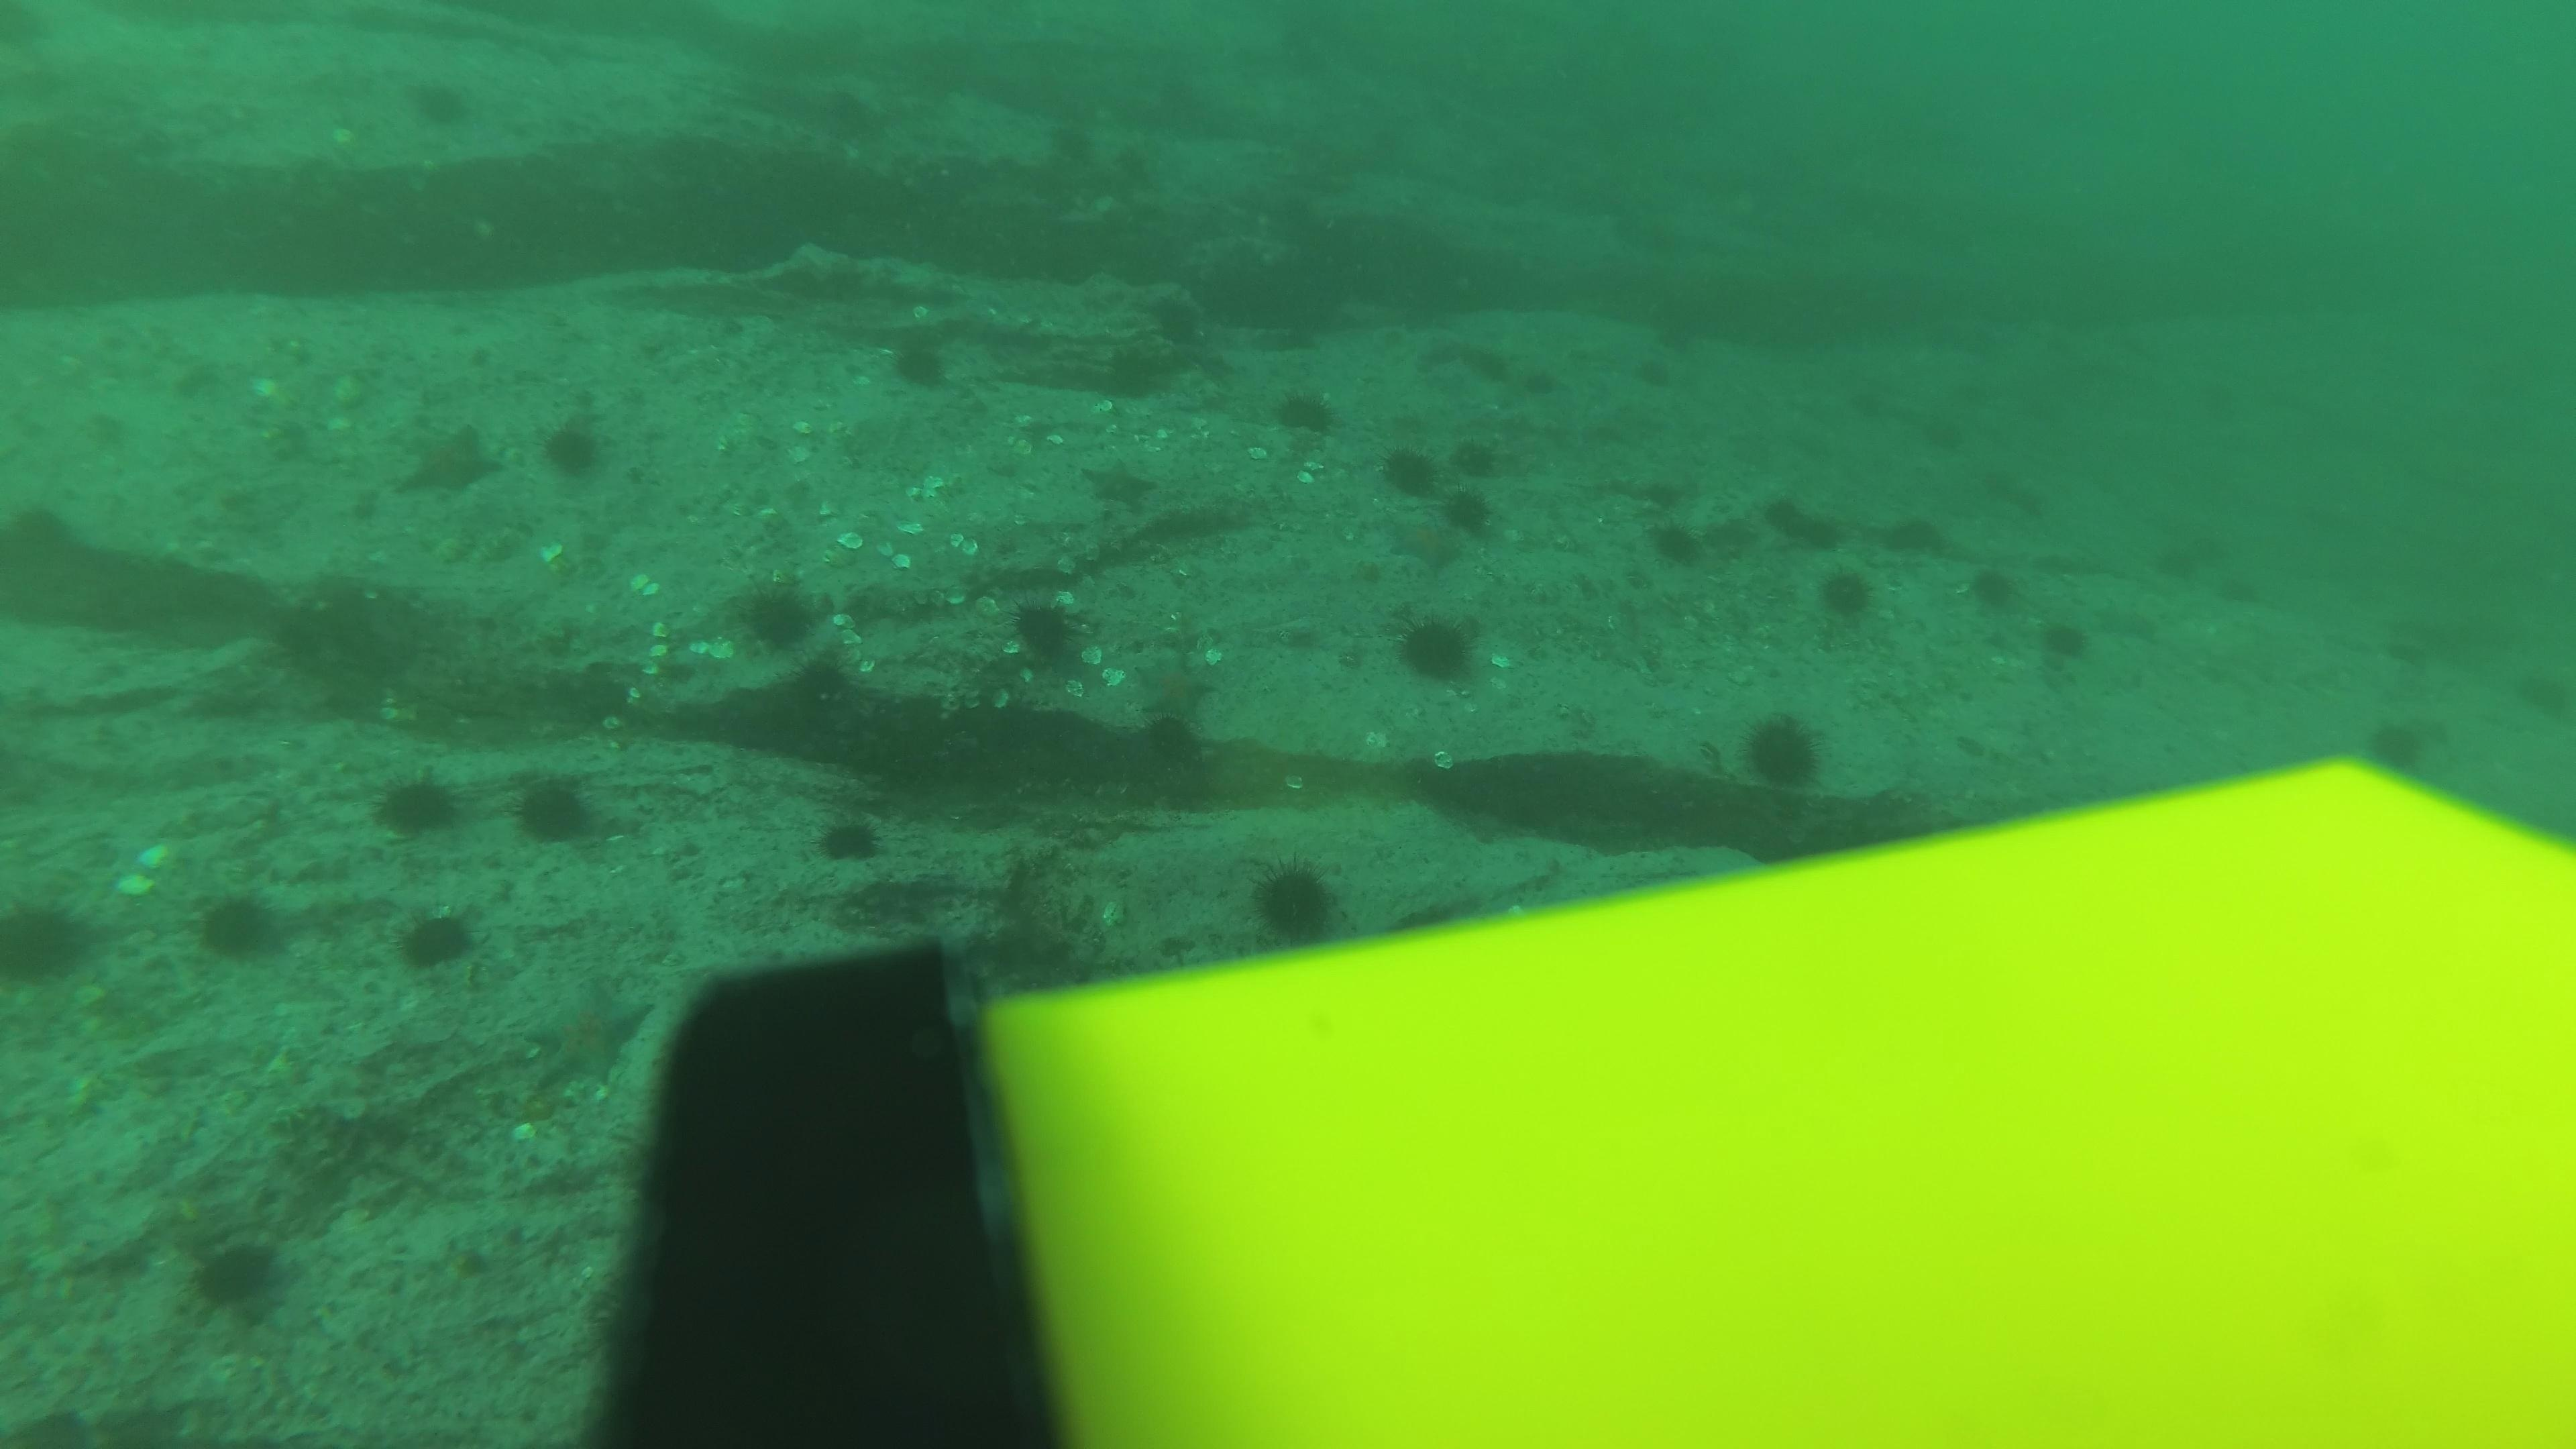echinus: (1238, 853, 1355, 952), (179, 1226, 297, 1323), (0, 888, 97, 993), (722, 570, 833, 660), (998, 589, 1100, 683), (184, 881, 292, 970), (506, 766, 612, 855), (1734, 708, 1831, 796), (1387, 607, 1488, 692), (366, 764, 469, 844), (1093, 324, 1191, 403), (391, 902, 483, 980), (1424, 471, 1504, 552), (2357, 708, 2443, 782), (1868, 495, 1955, 570), (2194, 559, 2282, 632), (876, 324, 962, 396), (2489, 667, 2576, 740), (2371, 619, 2457, 692), (2137, 533, 2224, 605), (805, 67, 892, 140), (1074, 126, 1161, 198), (1014, 97, 1099, 170), (1122, 60, 1207, 133), (1378, 439, 1463, 510), (536, 409, 614, 483), (807, 801, 892, 869), (1138, 287, 1215, 357), (1810, 561, 1884, 630), (403, 71, 479, 138), (1265, 380, 1341, 442), (1640, 508, 1713, 571), (2031, 610, 2095, 671), (1960, 559, 2024, 619), (1362, 310, 1415, 352), (1757, 492, 1808, 534), (1801, 517, 1852, 559), (1626, 354, 1677, 396), (1514, 361, 1566, 403), (1649, 318, 1700, 361), (1396, 295, 1447, 338), (1449, 435, 1500, 478), (1974, 464, 2026, 506), (1833, 380, 1884, 421), (1921, 414, 1973, 455), (2001, 492, 2052, 533)
starfish: (520, 975, 655, 1088), (391, 418, 504, 501), (1129, 646, 1221, 725), (1380, 511, 1470, 575), (1079, 455, 1159, 510)
